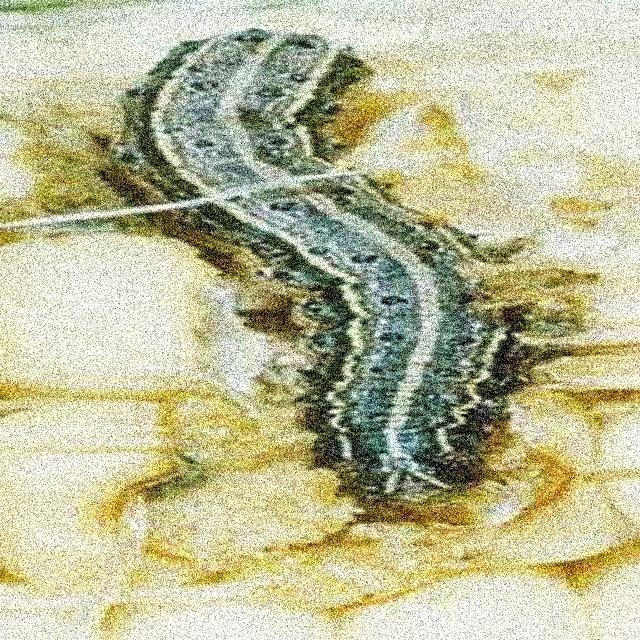Plaga: (138, 36, 508, 501)
